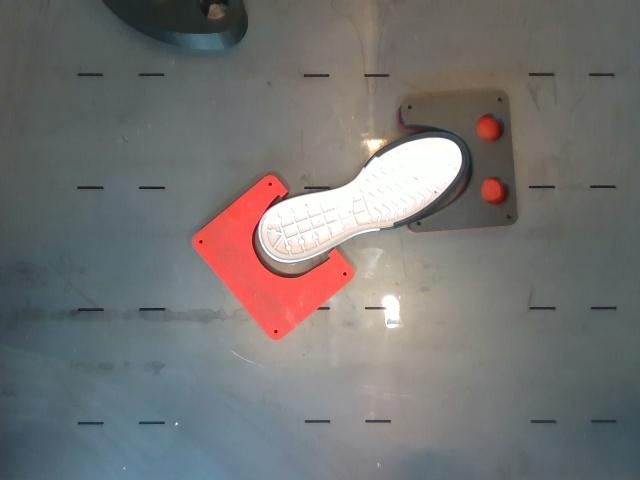shoes: (260, 133, 467, 261)
